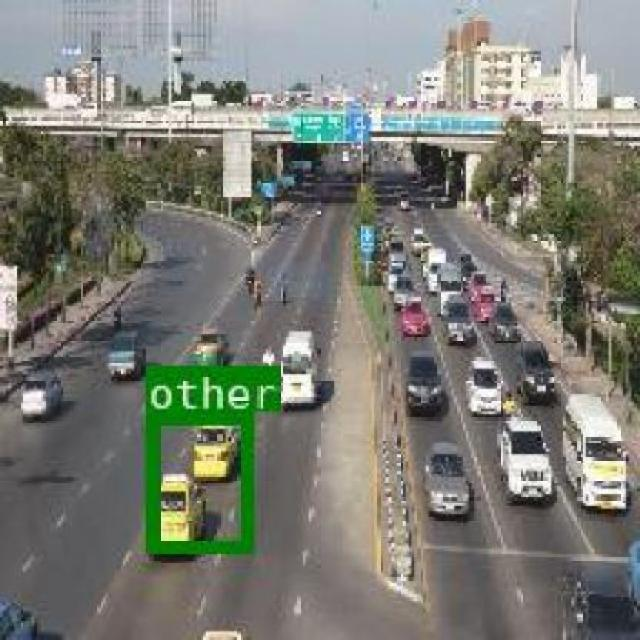other: (143, 409, 249, 551)
